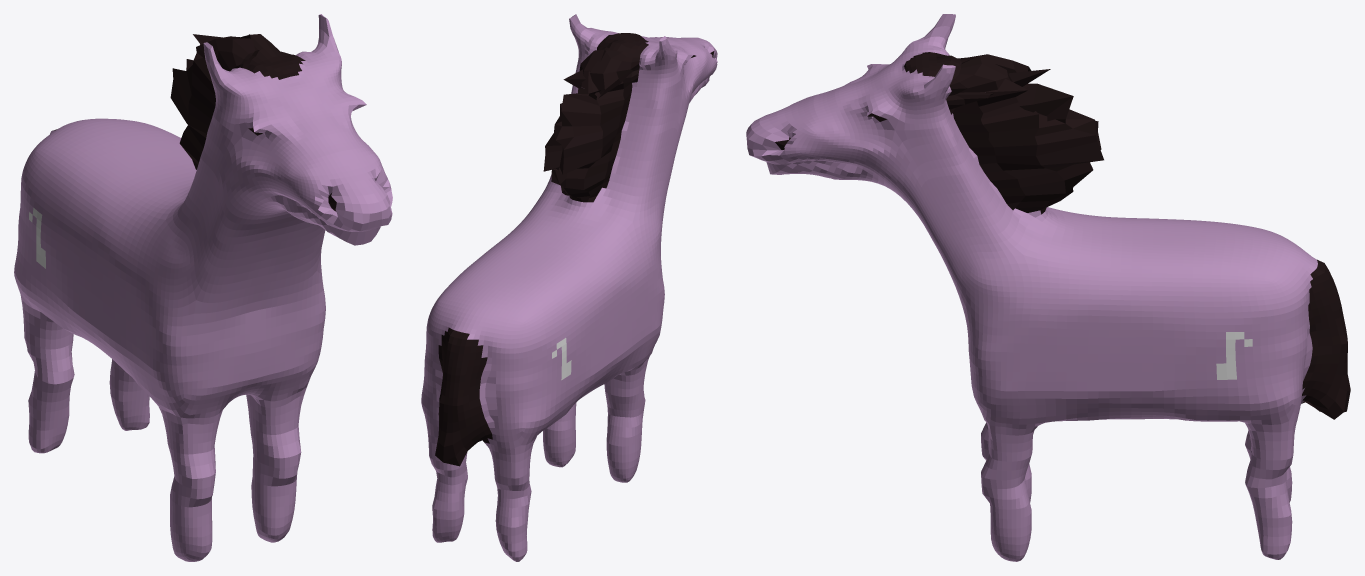
Rendered from pony.fbx.
3 views of the same model, side by side, from view 1: azimuth 30°, elevation 25°; view 2: azimuth 150°, elevation 25°; view 3: azimuth 270°, elevation 25° (orthographic). The views are drawn at different scales.
Parts seen in each view (by area): view 1: Cube; view 2: Cube; view 3: Cube.
Part boxes in pixels (<box>): Cube: <box>14,14,392,561</box>; Cube: <box>421,14,717,561</box>; Cube: <box>746,14,1350,561</box>.
Size of the model in its own units: 200 by 637 by 695.
